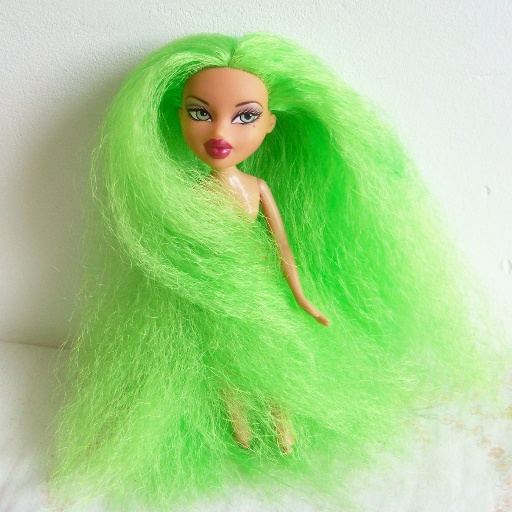hand: (314, 313, 327, 328)
